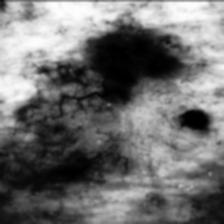Potentially Malignant Skin Tumors: (54, 51, 144, 99), (178, 104, 224, 140)
